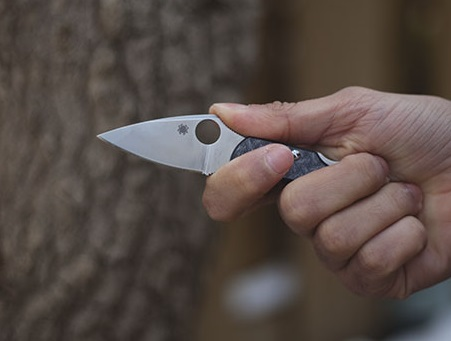knife: (90, 94, 391, 244)
